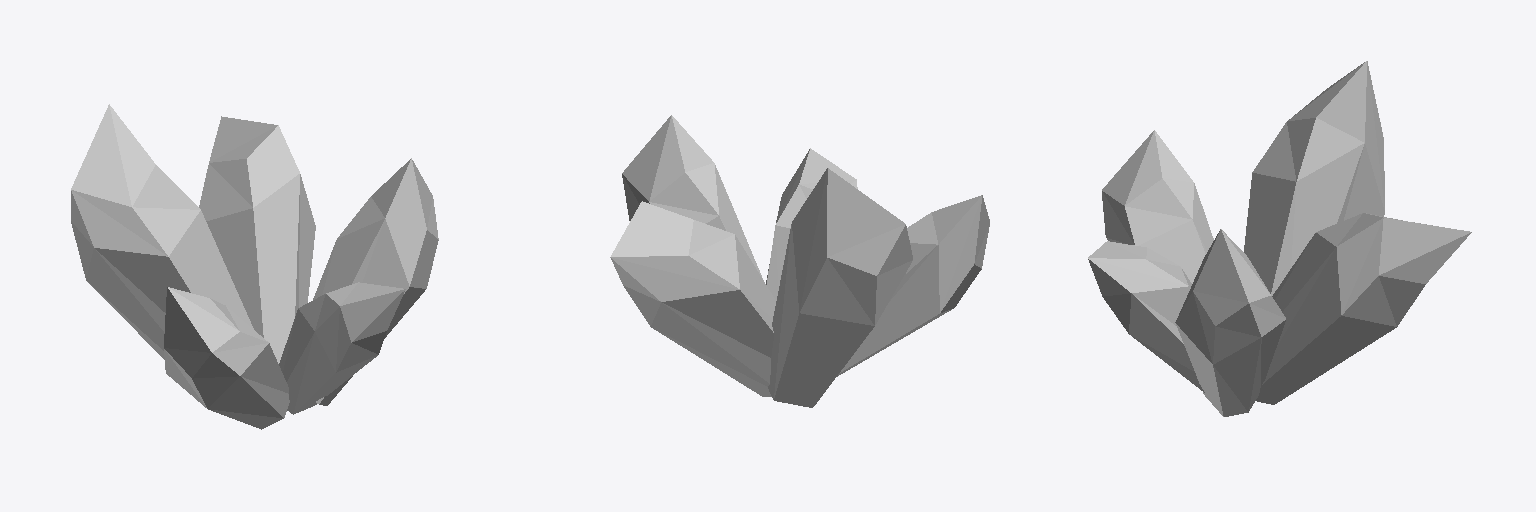
The model's file is Crystal4.obj.
3 views of the same model, side by side, from view 1: azimuth 30°, elevation 25°; view 2: azimuth 150°, elevation 25°; view 3: azimuth 270°, elevation 25° (orthographic).
Parts seen in each view (by area): view 1: Crystal_Crystal.001, Crystal.001_Crystal.002, Crystal.004_Crystal.005, Crystal.002_Crystal.003, Crystal.003_Crystal.004; view 2: Crystal_Crystal.001, Crystal.001_Crystal.002, Crystal.004_Crystal.005, Crystal.002_Crystal.003, Crystal.003_Crystal.004; view 3: Crystal.001_Crystal.002, Crystal_Crystal.001, Crystal.002_Crystal.003, Crystal.004_Crystal.005, Crystal.003_Crystal.004.
Part boxes in pixels (x1,y1,x2,y2): Crystal_Crystal.001: (71,104,253,359); Crystal.001_Crystal.002: (199,116,315,363); Crystal.004_Crystal.005: (164,287,289,429); Crystal.002_Crystal.003: (313,158,438,405); Crystal.003_Crystal.004: (279,282,405,414); Crystal_Crystal.001: (768,168,912,407); Crystal.001_Crystal.002: (610,201,775,396); Crystal.004_Crystal.005: (837,195,989,376); Crystal.002_Crystal.003: (622,115,762,278); Crystal.003_Crystal.004: (766,148,857,300); Crystal.001_Crystal.002: (1256,213,1471,404); Crystal_Crystal.001: (1244,61,1384,295); Crystal.002_Crystal.003: (1175,229,1285,416); Crystal.004_Crystal.005: (1102,130,1213,283); Crystal.003_Crystal.004: (1088,241,1204,392).
Bounding box in the file's own units: 3.28 × 2.82 × 3.38.